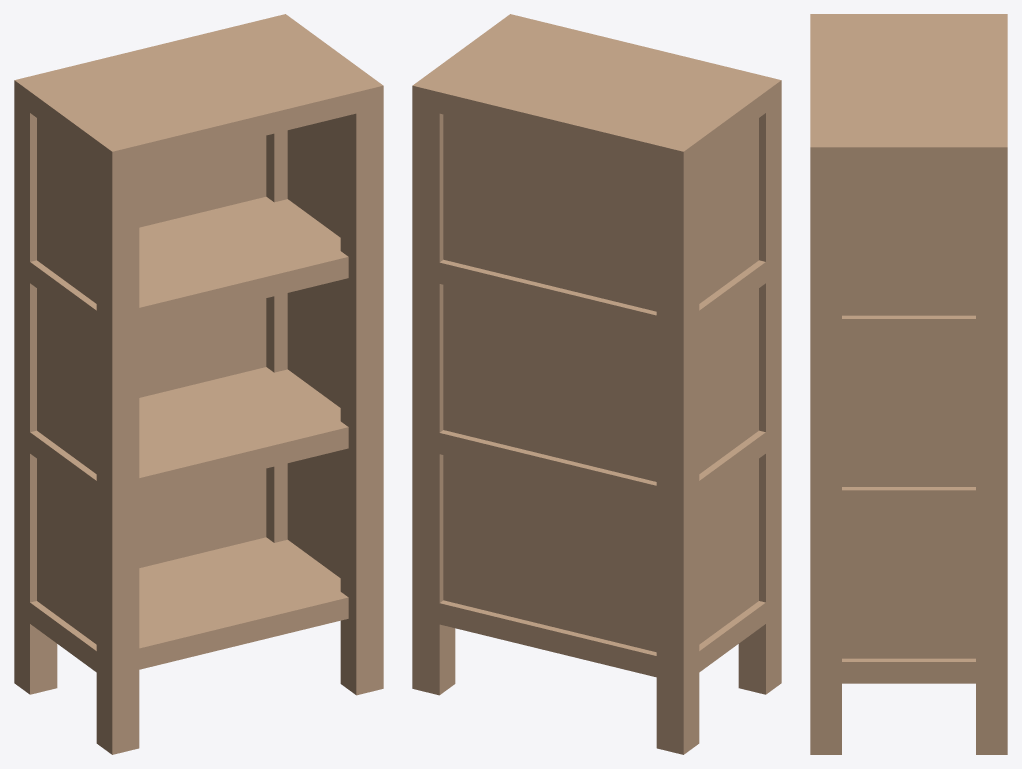
Rendered from bookcaseClosed.glb.
3 views of the same model, side by side, from view 1: azimuth 30°, elevation 25°; view 2: azimuth 150°, elevation 25°; view 3: azimuth 270°, elevation 25° (orthographic).
Visible parts, largest first — view 1: bookcaseClosed; view 2: bookcaseClosed; view 3: bookcaseClosed.
Part boxes in pixels (x1,y1,x2,y2): bookcaseClosed: (14, 14, 383, 754); bookcaseClosed: (412, 14, 781, 754); bookcaseClosed: (810, 14, 1007, 754).
Bounding box in the file's own units: 0.4 × 0.85 × 0.25.
